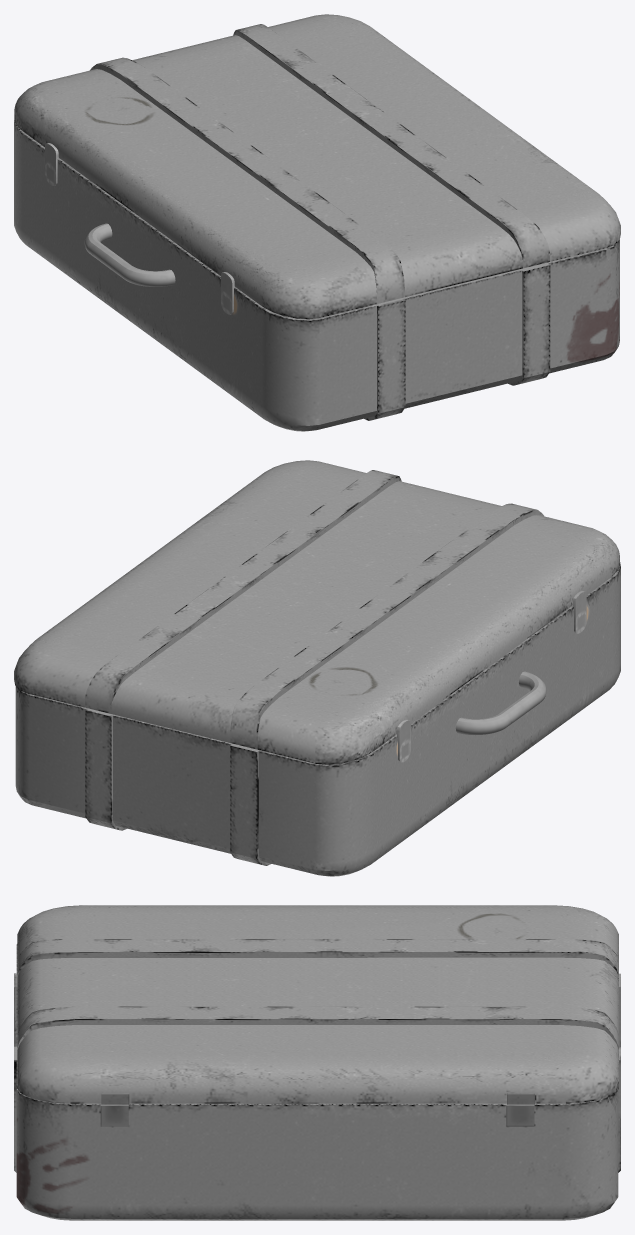
The model's file is Suitcase_pivoted.fbx.
The picture shows the model from 3 angles, top to bottom: view 1: azimuth 30°, elevation 25°; view 2: azimuth 150°, elevation 25°; view 3: azimuth 270°, elevation 25°; orthographic projection. The views are drawn at different scales.
Visible parts, largest first — view 1: Suitcase.Top, Suitcase; view 2: Suitcase.Top, Suitcase; view 3: Suitcase.Top, Suitcase.
Part boxes in pixels (x1=…): Suitcase.Top: x1=14, y1=14, x2=620, y2=319; Suitcase: x1=14, y1=119, x2=619, y2=431; Suitcase.Top: x1=14, y1=460, x2=619, y2=764; Suitcase: x1=15, y1=562, x2=620, y2=876; Suitcase.Top: x1=17, y1=905, x2=618, y2=1104; Suitcase: x1=14, y1=944, x2=620, y2=1220.
Bounding box in the file's own units: 460 × 183 × 605.
